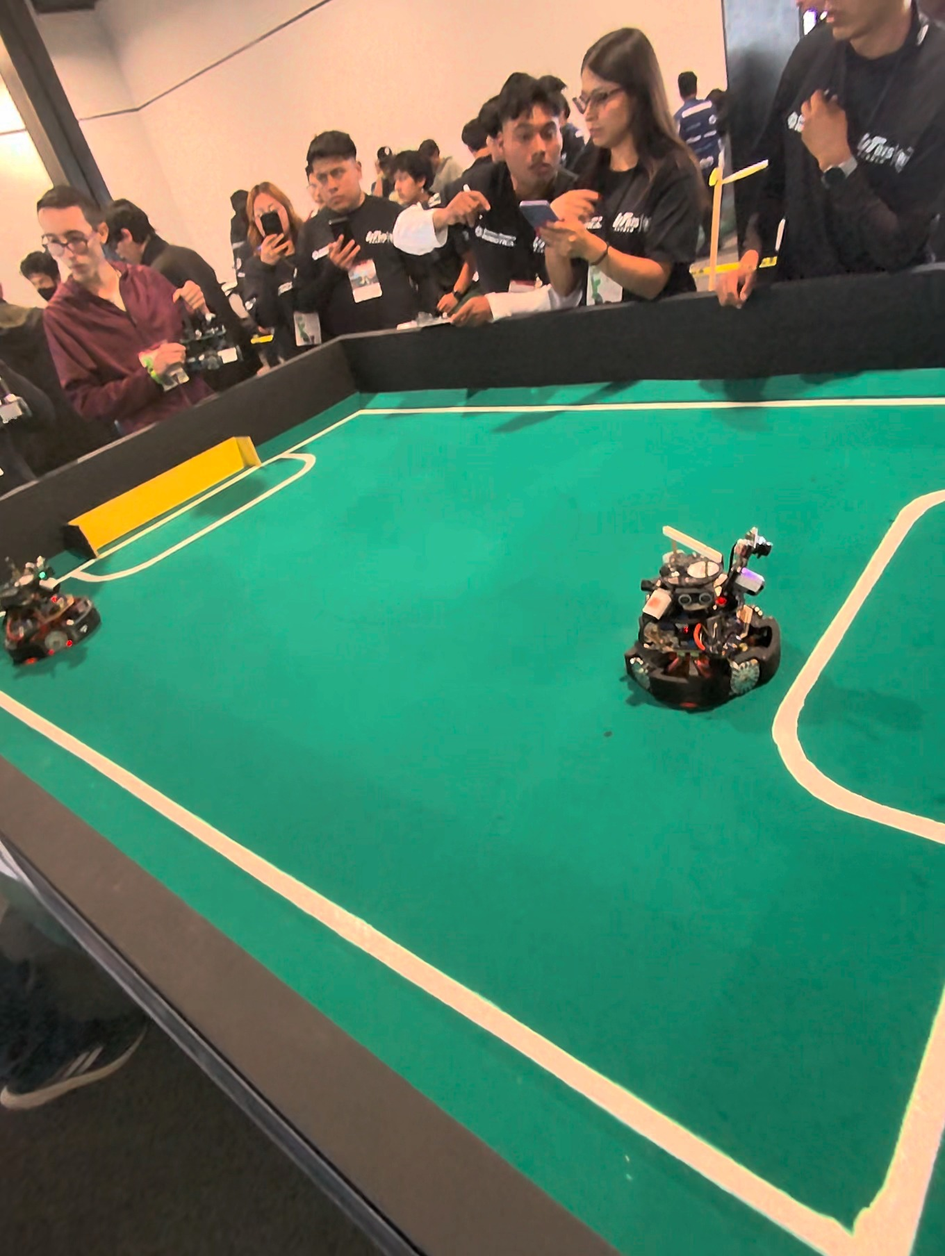Robot: (631, 506, 782, 716), (0, 547, 114, 675)
